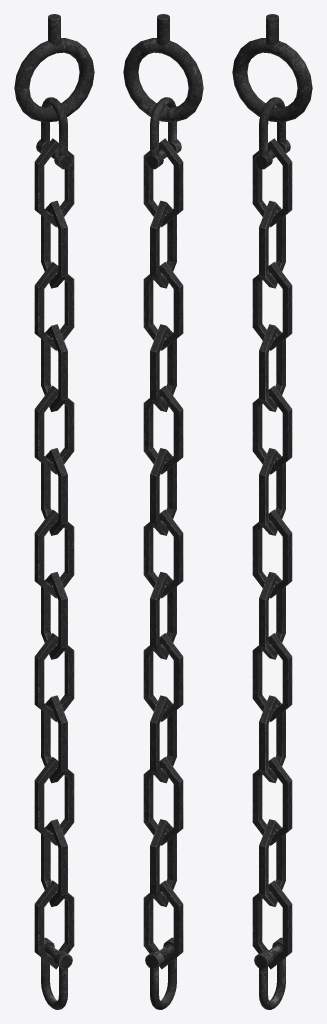
File: chain_01_long.fbx
3 renders of one model, left to right at view 1: azimuth 30°, elevation 25°; view 2: azimuth 150°, elevation 25°; view 3: azimuth 330°, elevation 25°, orthographic.
Parts seen in each view (by area): view 1: chain_01_long; view 2: chain_01_long; view 3: chain_01_long.
Part boxes in pixels (left/top/right/bottom): chain_01_long: left=14, top=14, right=94, bottom=1009; chain_01_long: left=123, top=14, right=203, bottom=1009; chain_01_long: left=232, top=14, right=312, bottom=1009.
Bounding box in the file's own units: 20.24 × 245 × 10.3.
